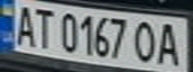0: (54, 9, 78, 54)
1: (75, 11, 93, 56)
6: (93, 12, 112, 59)
7: (109, 15, 130, 61)
A: (154, 19, 187, 66), (9, 1, 39, 47)
O: (130, 18, 160, 64)
T: (30, 3, 57, 50)
